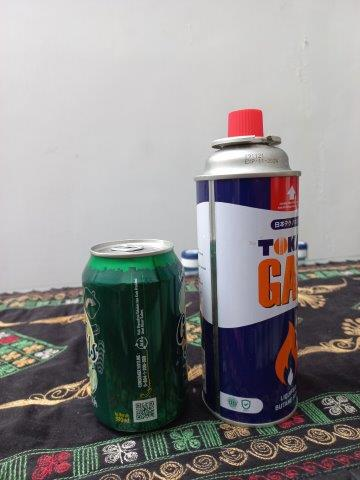kaleng: (196, 110, 302, 424), (82, 240, 187, 433)
